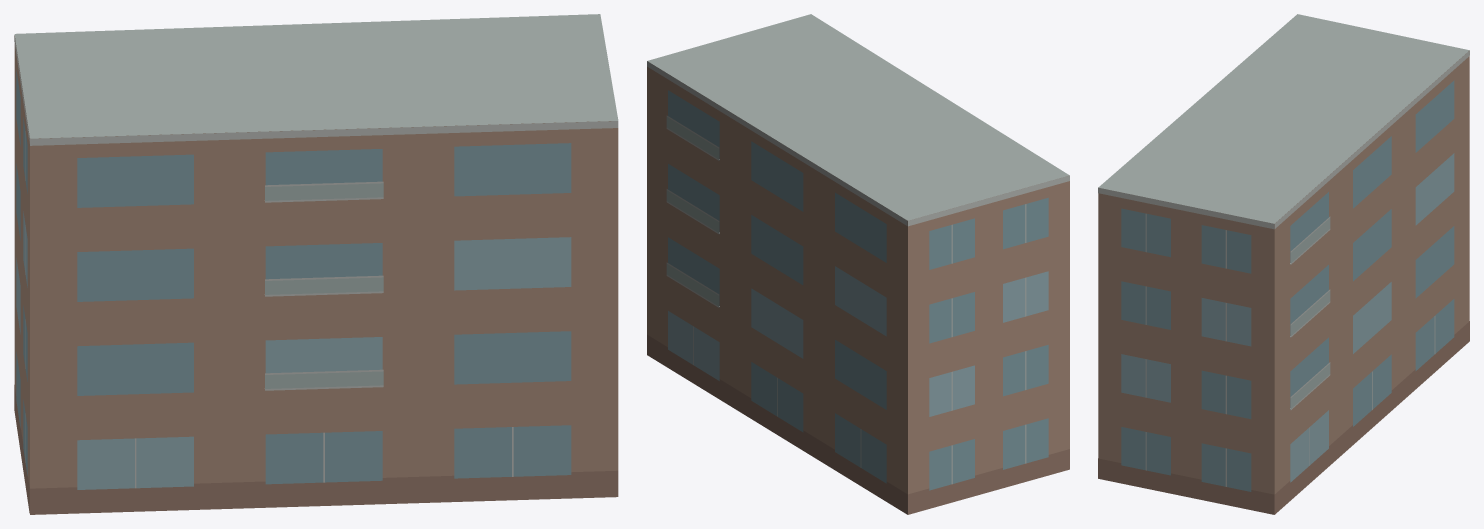
The model's file is survey-upis-33010759.glb.
3 renders of one model, left to right at view 1: azimuth 30°, elevation 25°; view 2: azimuth 150°, elevation 25°; view 3: azimuth 270°, elevation 25°, orthographic. The views are drawn at different scales.
Parts seen in each view (by area): view 1: survey-upis-33010759.tmp; view 2: survey-upis-33010759.tmp; view 3: survey-upis-33010759.tmp.
Boxes of the visible parts, bbox=[...] form: survey-upis-33010759.tmp: bbox=[14, 14, 618, 514]; survey-upis-33010759.tmp: bbox=[647, 14, 1069, 514]; survey-upis-33010759.tmp: bbox=[1098, 14, 1469, 514].
Size of the model in its own units: 19.79 by 12.8 by 14.82.
